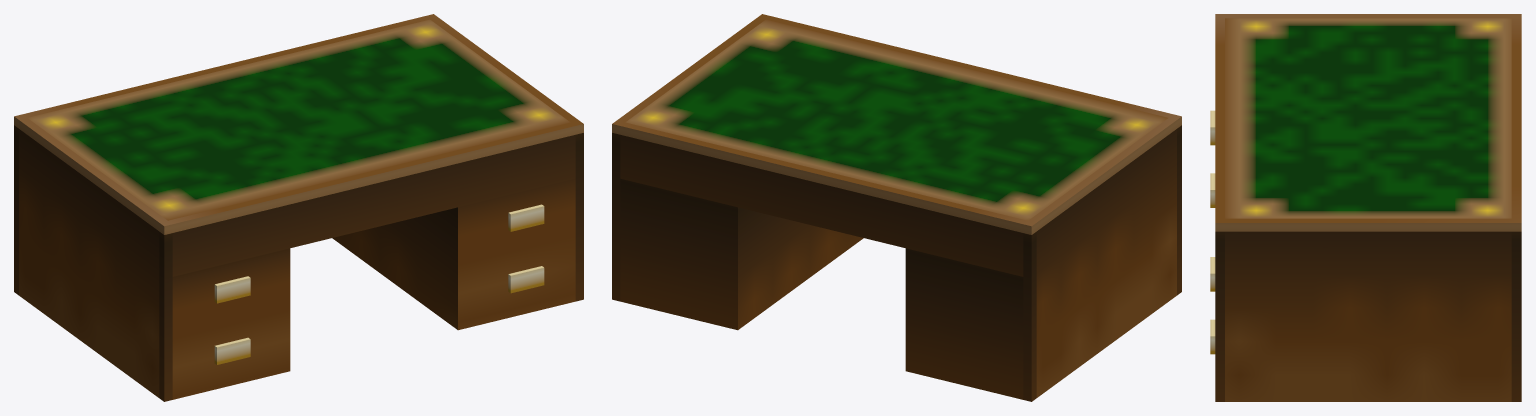
File: desk_407x00.obj
3 renders of one model, left to right at view 1: azimuth 30°, elevation 25°; view 2: azimuth 150°, elevation 25°; view 3: azimuth 270°, elevation 25°, orthographic.
Visible parts, largest first — view 1: Desk_407x0; view 2: Desk_407x0; view 3: Desk_407x0.
Boxes of the visible parts, x1,y1,x2,y2 form: Desk_407x0: (14,14,583,401); Desk_407x0: (612,14,1181,401); Desk_407x0: (1210,14,1521,401).
Size of the model in its own units: 5 by 2 by 3.15.
